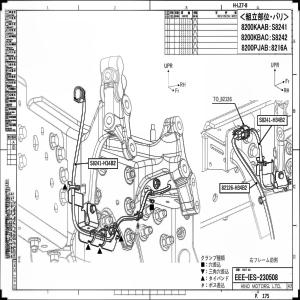PartNumber: (221, 185, 248, 192), (259, 116, 285, 123), (90, 160, 116, 166)
